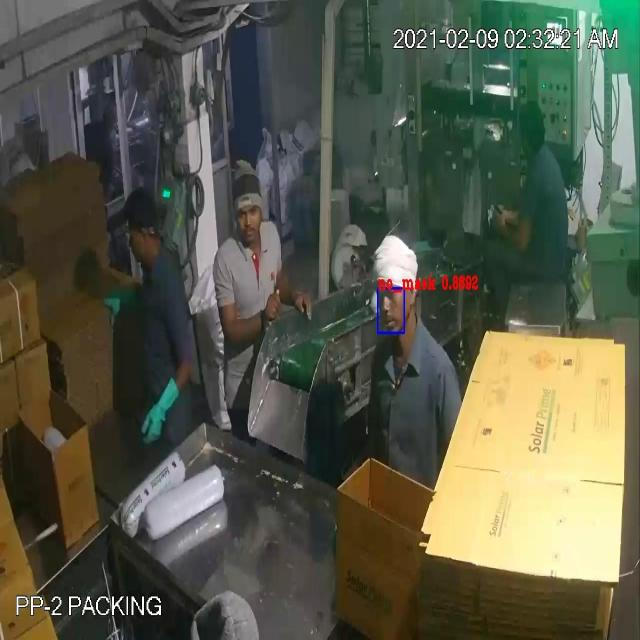gloves: (138, 368, 185, 456), (86, 276, 152, 338)
no-gloves: (214, 287, 284, 354), (489, 198, 537, 262), (267, 258, 314, 322)
